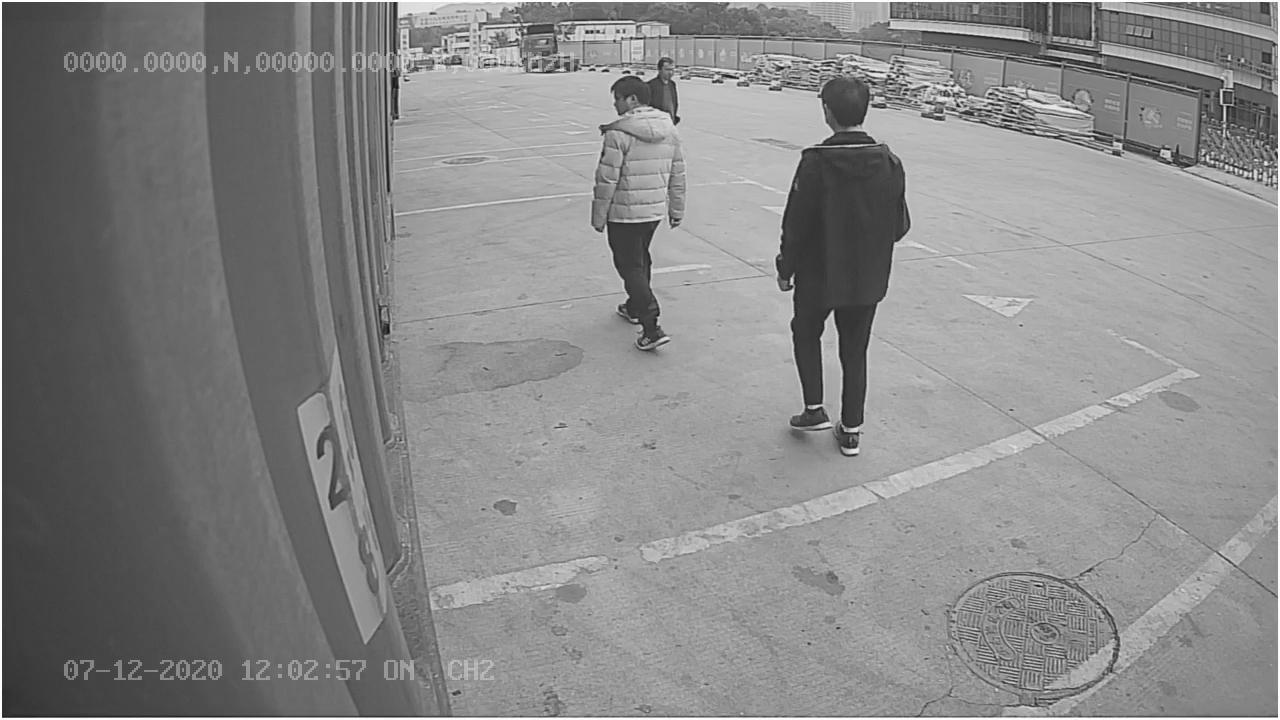person: (770, 70, 916, 471)
